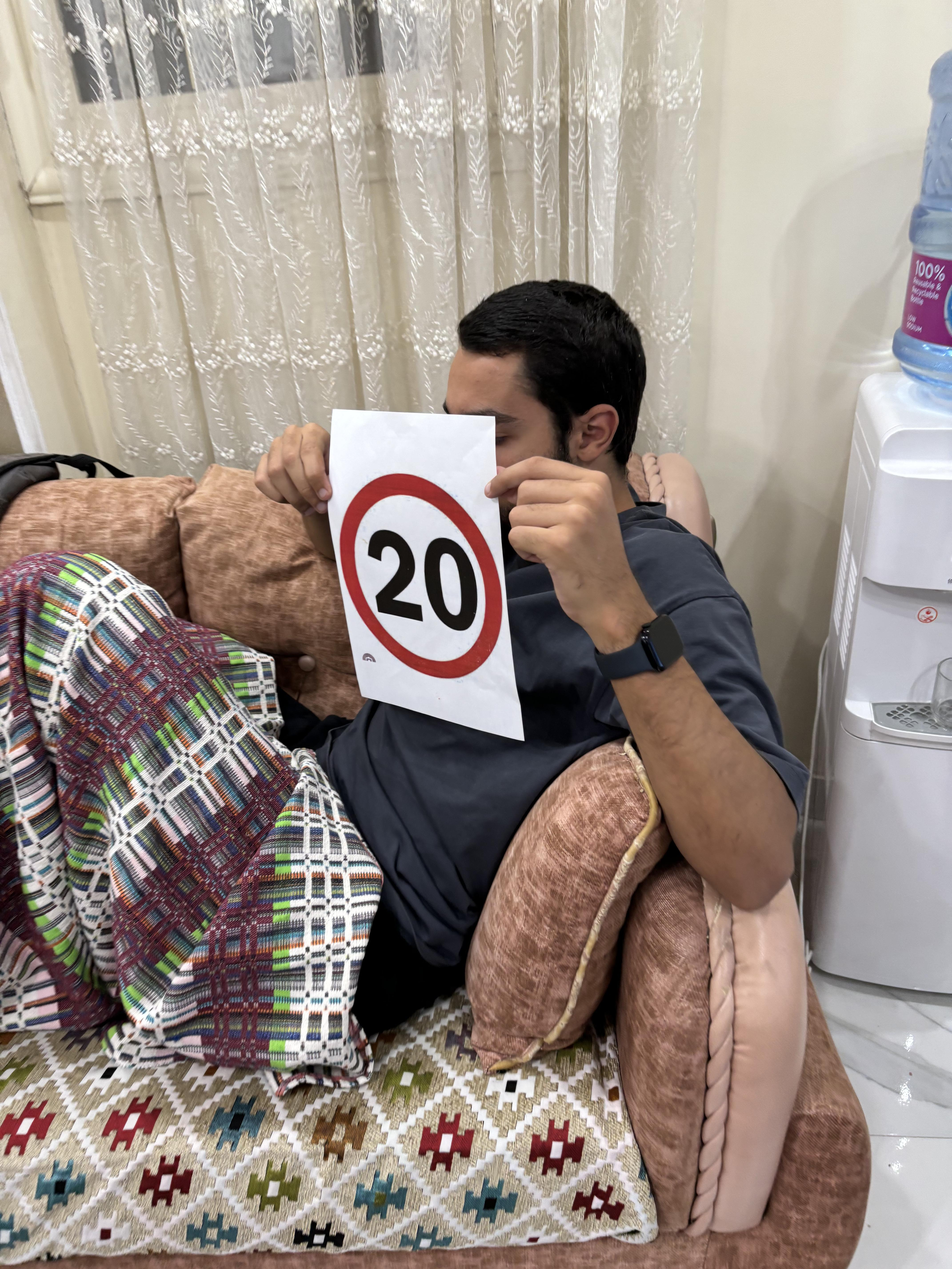20-Speed: (342, 465, 512, 682)
